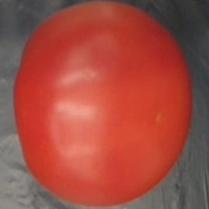unripe: (13, 1, 194, 209)
